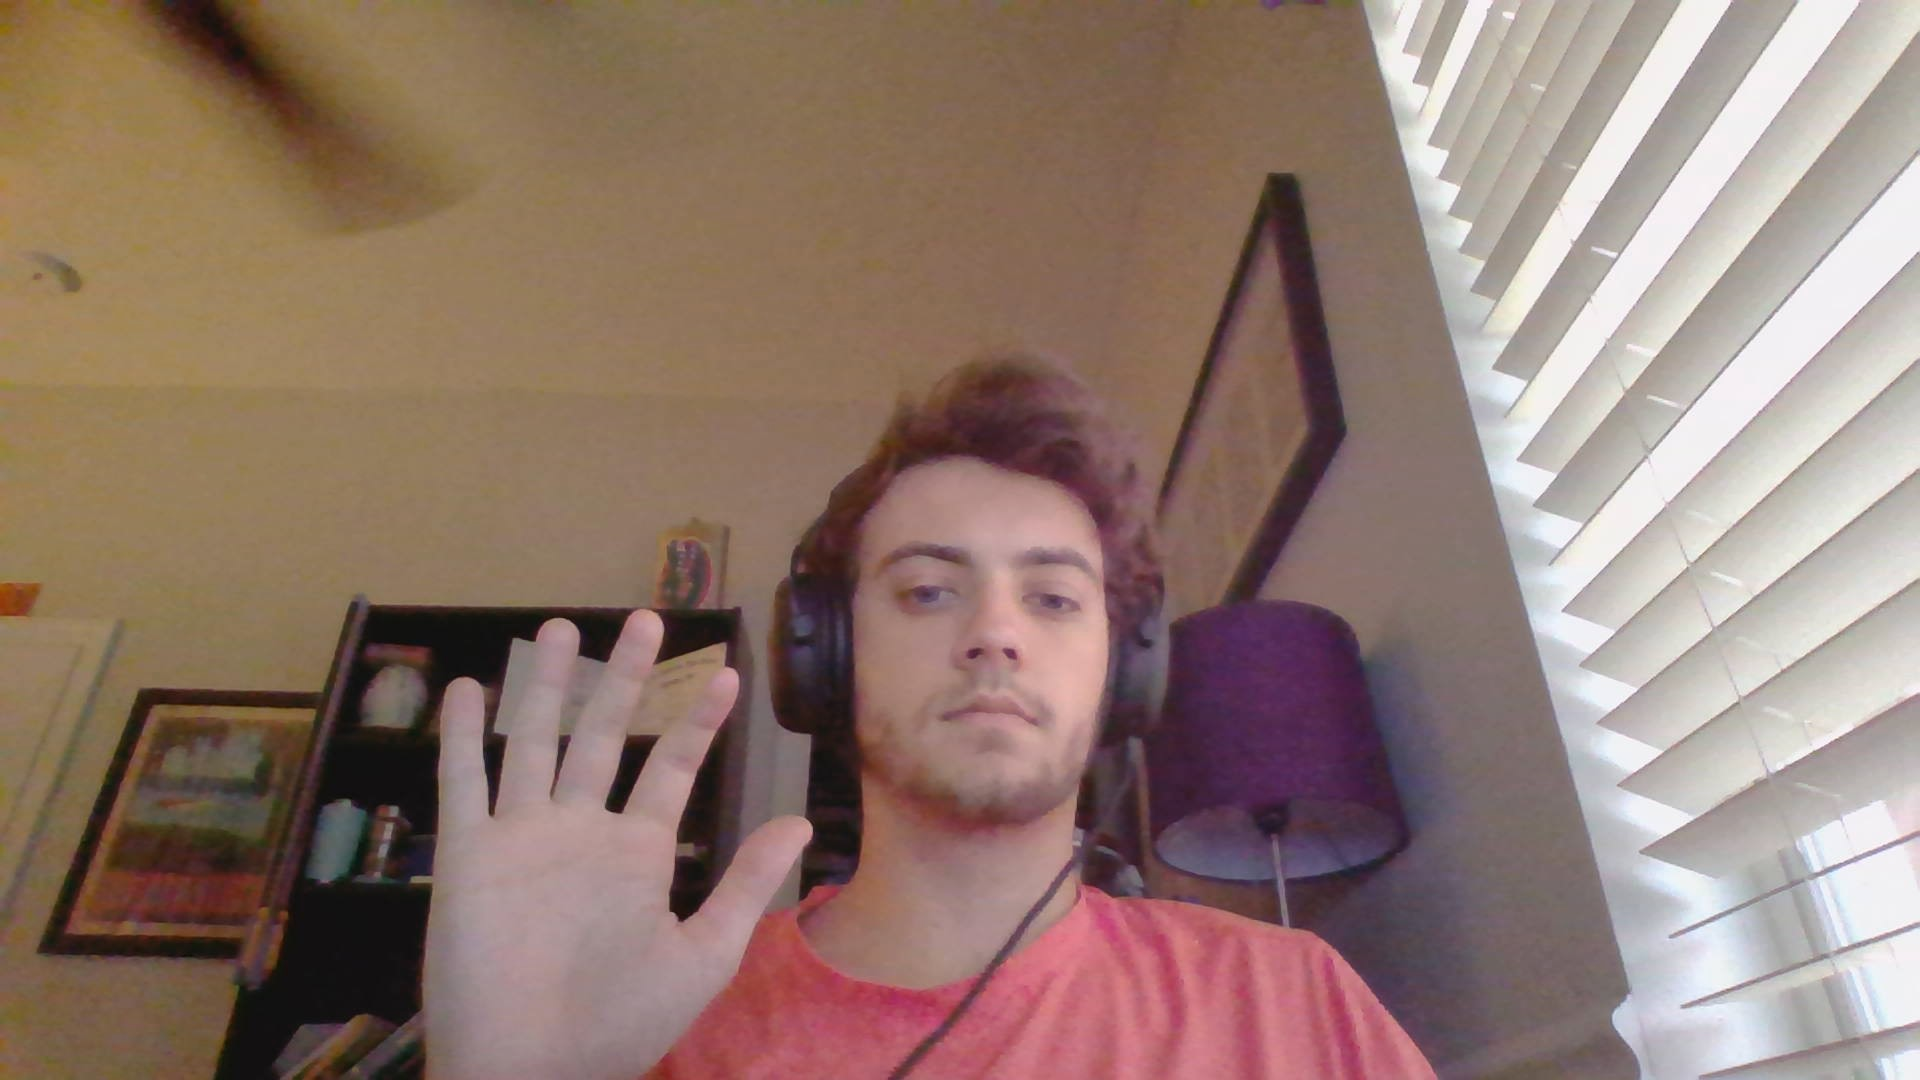Right Palm Up: (411, 607, 818, 1072)
